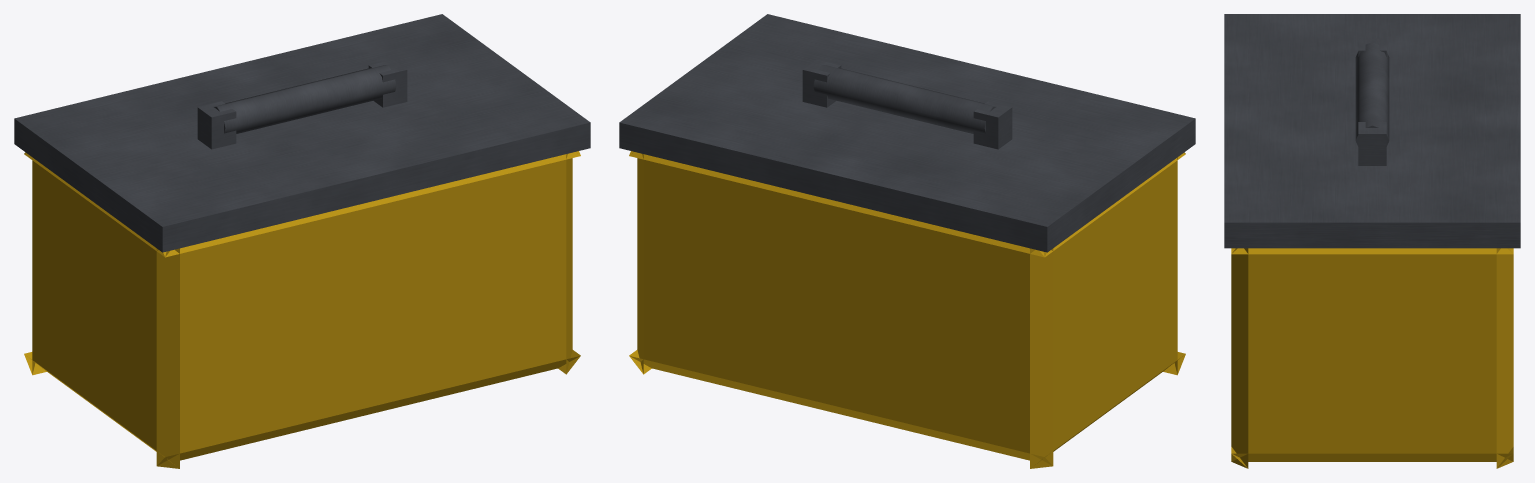
Rendered from ammo_box.obj.
3 renders of one model, left to right at view 1: azimuth 30°, elevation 25°; view 2: azimuth 150°, elevation 25°; view 3: azimuth 270°, elevation 25°, orthographic.
Parts seen in each view (by area): view 1: ammo_box; view 2: ammo_box; view 3: ammo_box.
Boxes of the visible parts, <box> form: ammo_box: <box>14,14,590,468</box>; ammo_box: <box>619,14,1195,468</box>; ammo_box: <box>1224,14,1520,468</box>.
Bounding box in the file's own units: 0.35 × 0.222 × 0.21.
